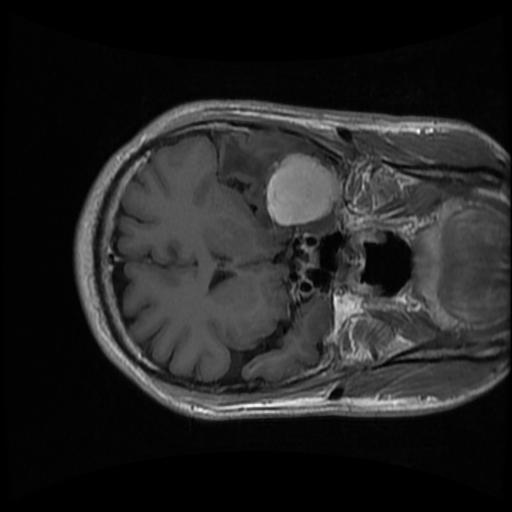meningioma: (266, 154, 339, 225)
